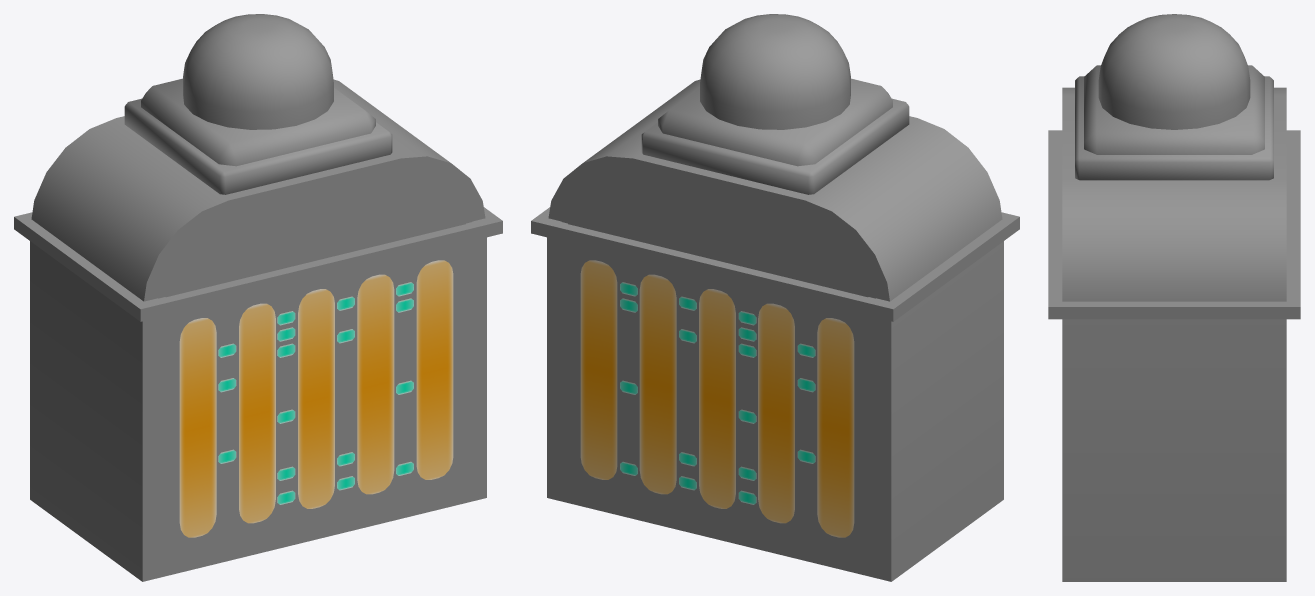
The model's file is Building_036.fbx.
3 views of the same model, side by side, from view 1: azimuth 30°, elevation 25°; view 2: azimuth 150°, elevation 25°; view 3: azimuth 270°, elevation 25° (orthographic).
Visible parts, largest first — view 1: Building_036; view 2: Building_036; view 3: Building_036.
Boxes of the visible parts, x1,y1,x2,y2 form: Building_036: (14, 14, 502, 581); Building_036: (531, 14, 1019, 581); Building_036: (1048, 14, 1300, 581).
Size of the model in its own units: 32.94 by 41.08 by 19.92.
Materials: 2 (1 with a texture image).
